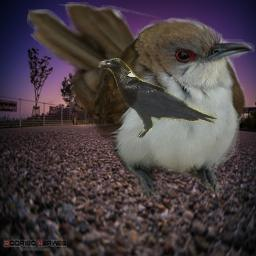Crow: (97, 58, 218, 140)
Cuckoo: (27, 2, 255, 205)
